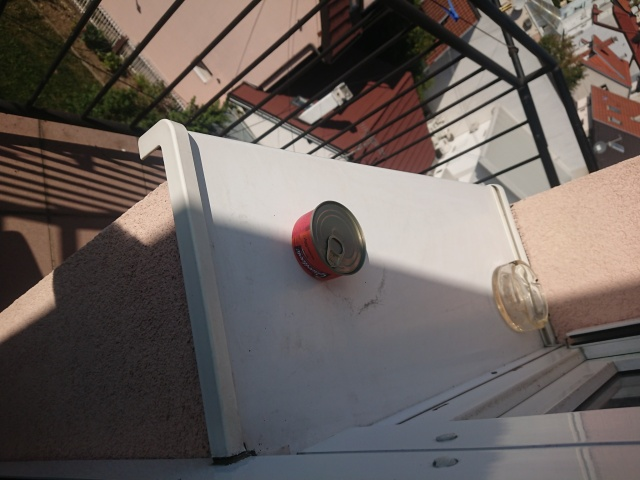Gavrilovic Pork Liver Pate 100g: (289, 198, 368, 283)
